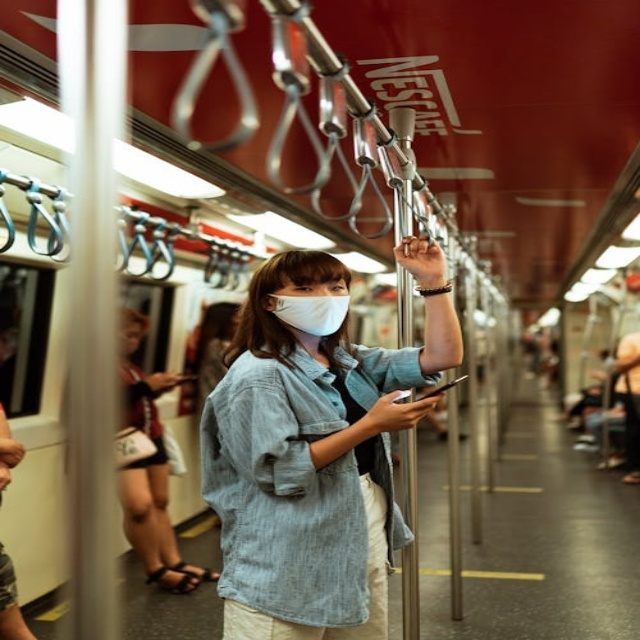Mascara: (264, 292, 351, 336)
Sin_gafas: (278, 279, 348, 295)
Sin_guantes: (371, 385, 447, 433), (389, 233, 449, 278)
